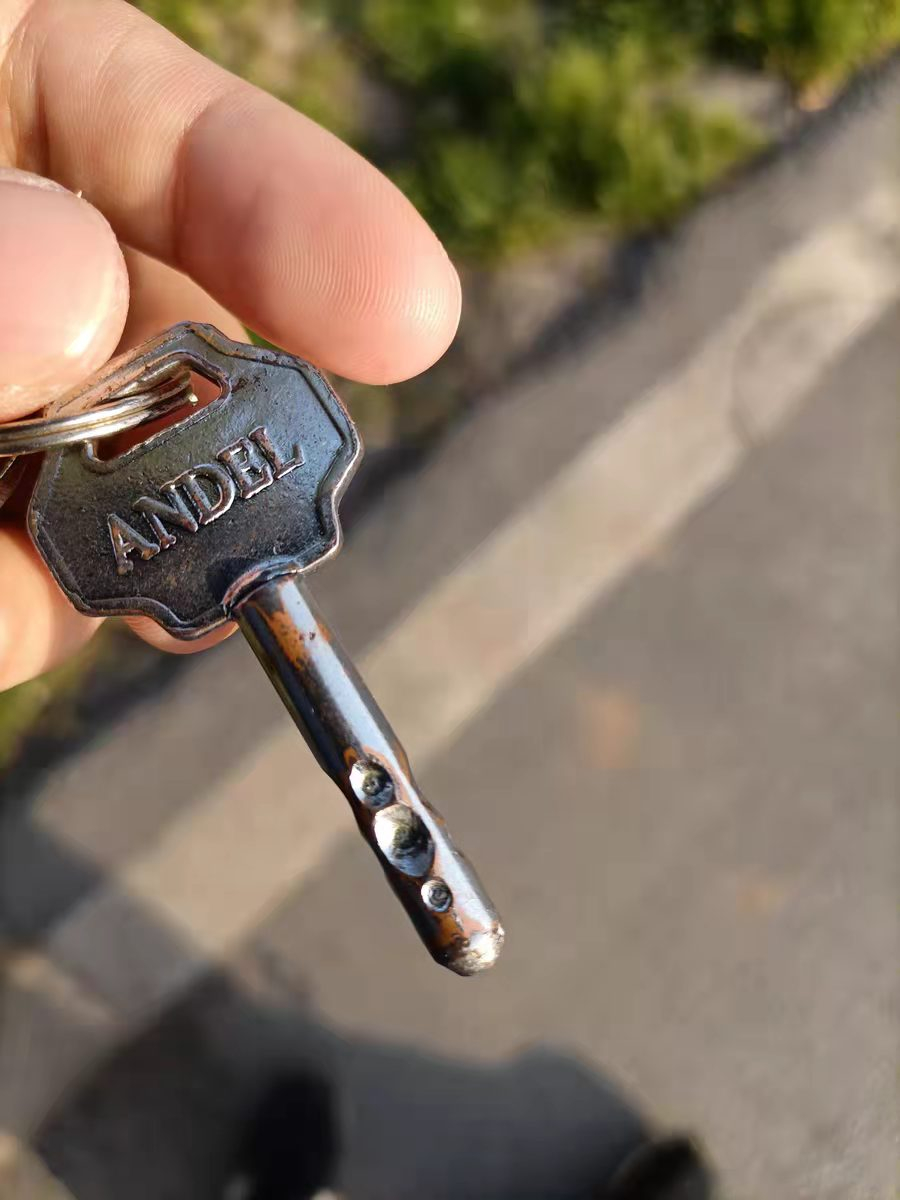key: (7, 326, 513, 982)
